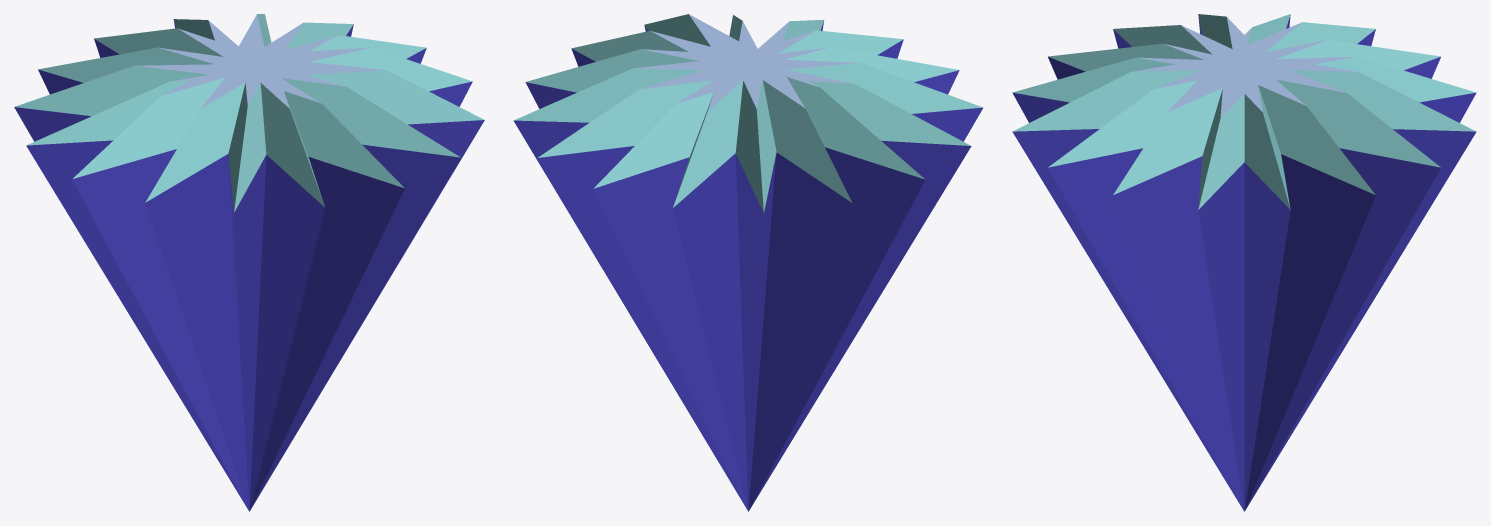
File: SharkSplash.fbx
3 renders of one model, left to right at view 1: azimuth 30°, elevation 25°; view 2: azimuth 150°, elevation 25°; view 3: azimuth 270°, elevation 25°, orthographic.
Parts seen in each view (by area): view 1: Cone.001; view 2: Cone.001; view 3: Cone.001.
Part boxes in pixels (bbox=[...]): Cone.001: bbox=[14, 14, 484, 511]; Cone.001: bbox=[513, 14, 983, 511]; Cone.001: bbox=[1012, 14, 1476, 511].
Bounding box in the file's own units: 188 × 200 × 188.
